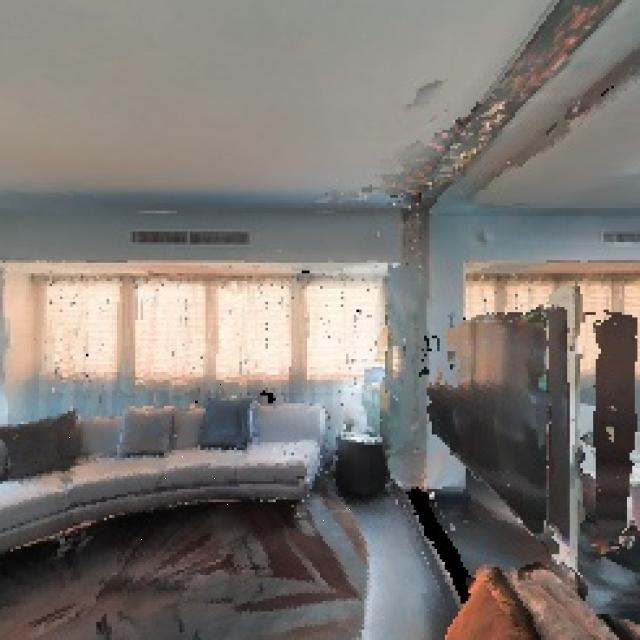sofa: (0, 375, 351, 562)
